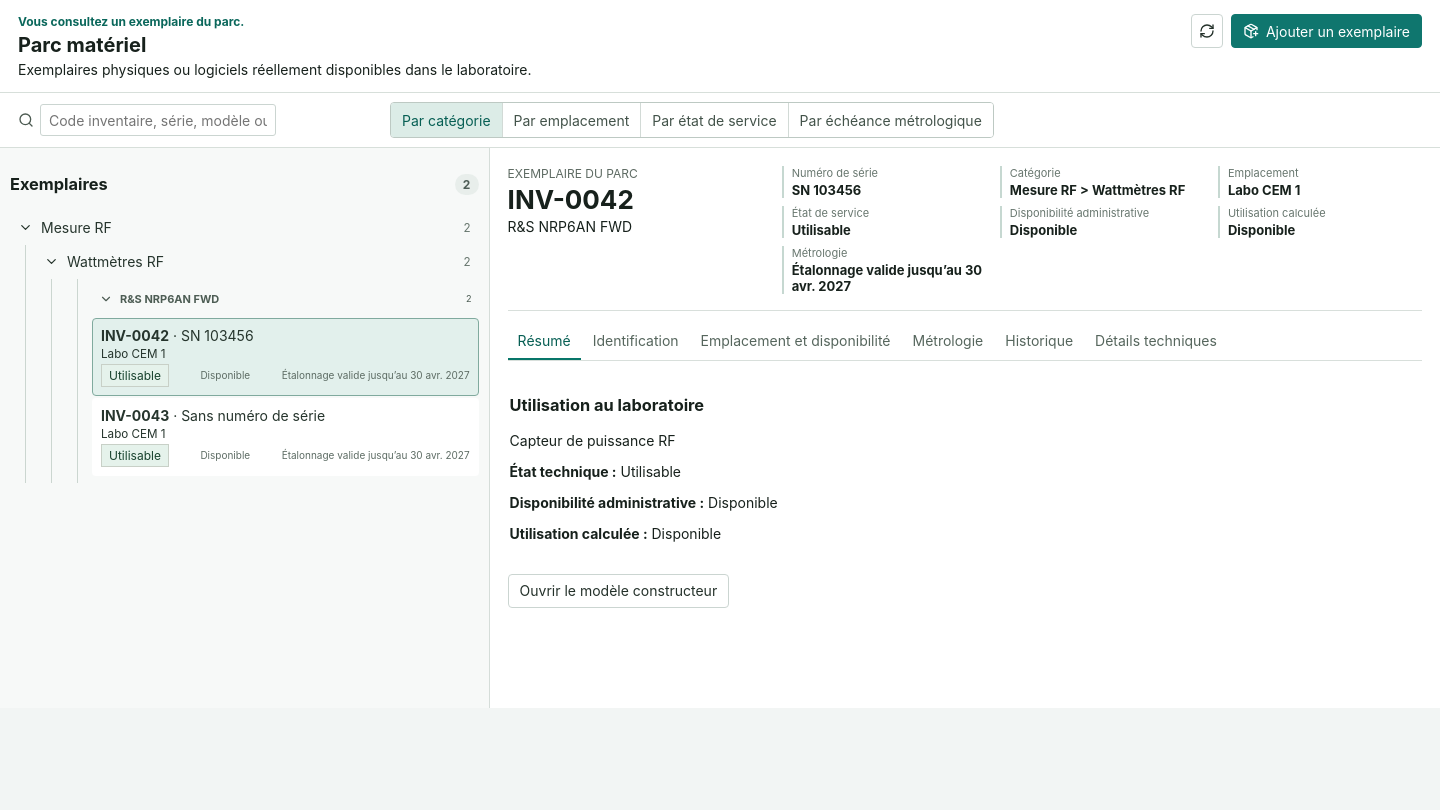
Test: LAB CONSOLE › renders the fleet hierarchy and opens the exact pinned model revision
The image size is (1440, 810).
Expected: the list item "Mesure RF 2" is shown, [10,211,479,245]
Expected: the list item "Wattmètres RF 2" is shown, [36,245,479,279]
Click the list item "INV-0043". click: (135, 415)
box: [92,398,479,476]
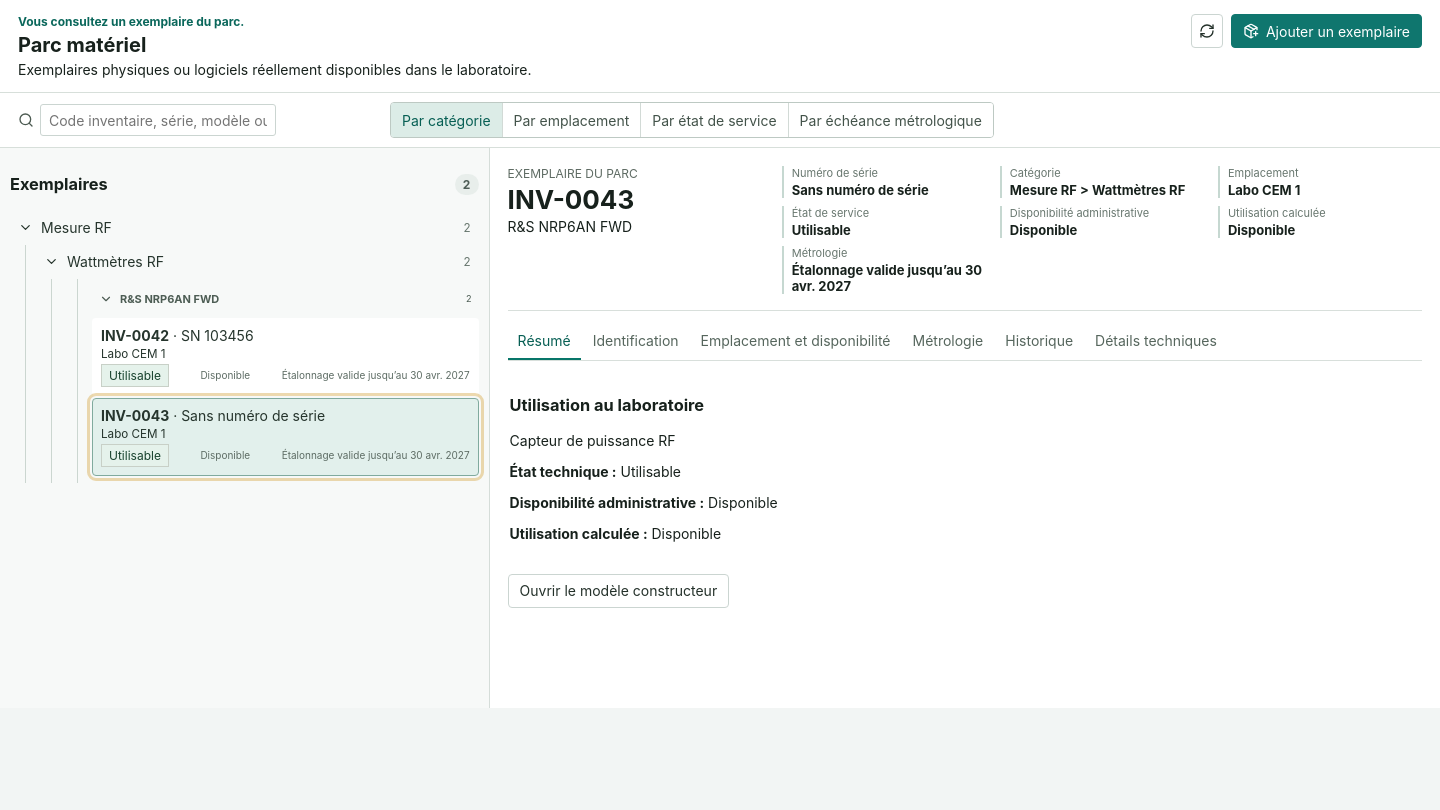
Expected: the text "Vous consultez un exemplaire du parc." is shown, [18,14,244,29]
Result: the text "Sans numéro de série" is shown at [792,182,929,198]
Click the button "Ouvrir le modèle constructeur". click: (618, 591)
box: [508,574,729,608]
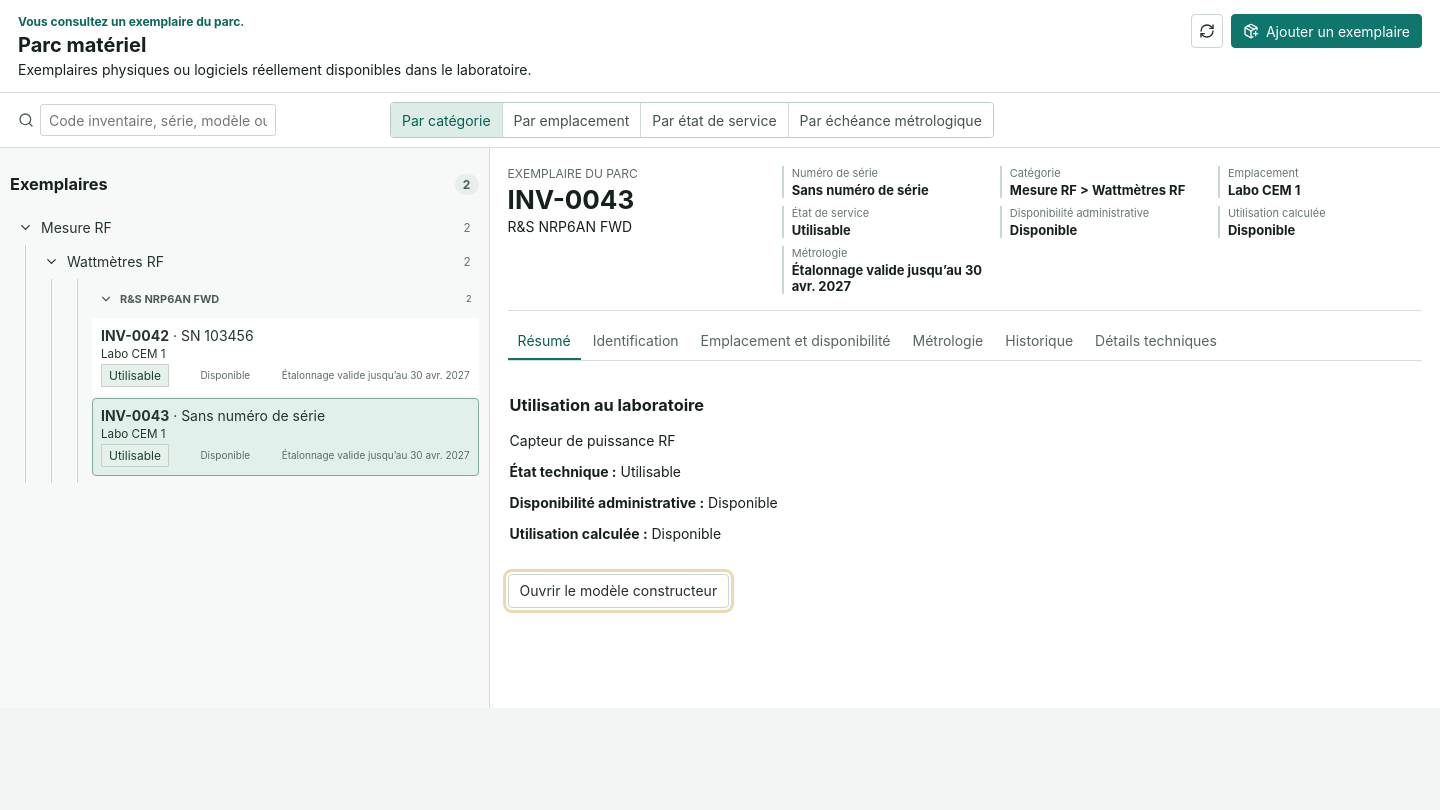
Click the button "Par emplacement". click: (572, 120)
box: [503,103,641,137]
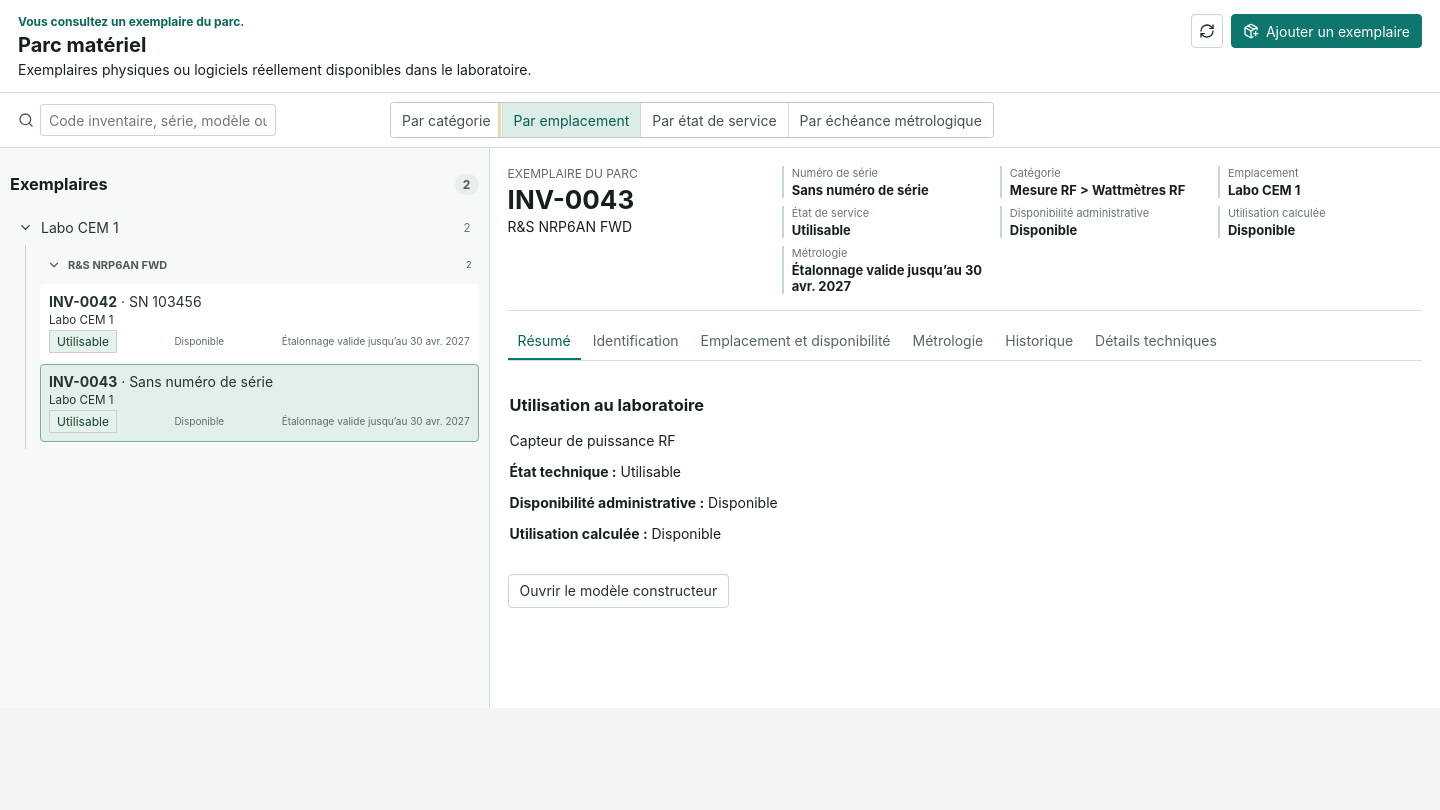
Click the button "Historique". click: (1039, 342)
box: [995,323,1083,360]
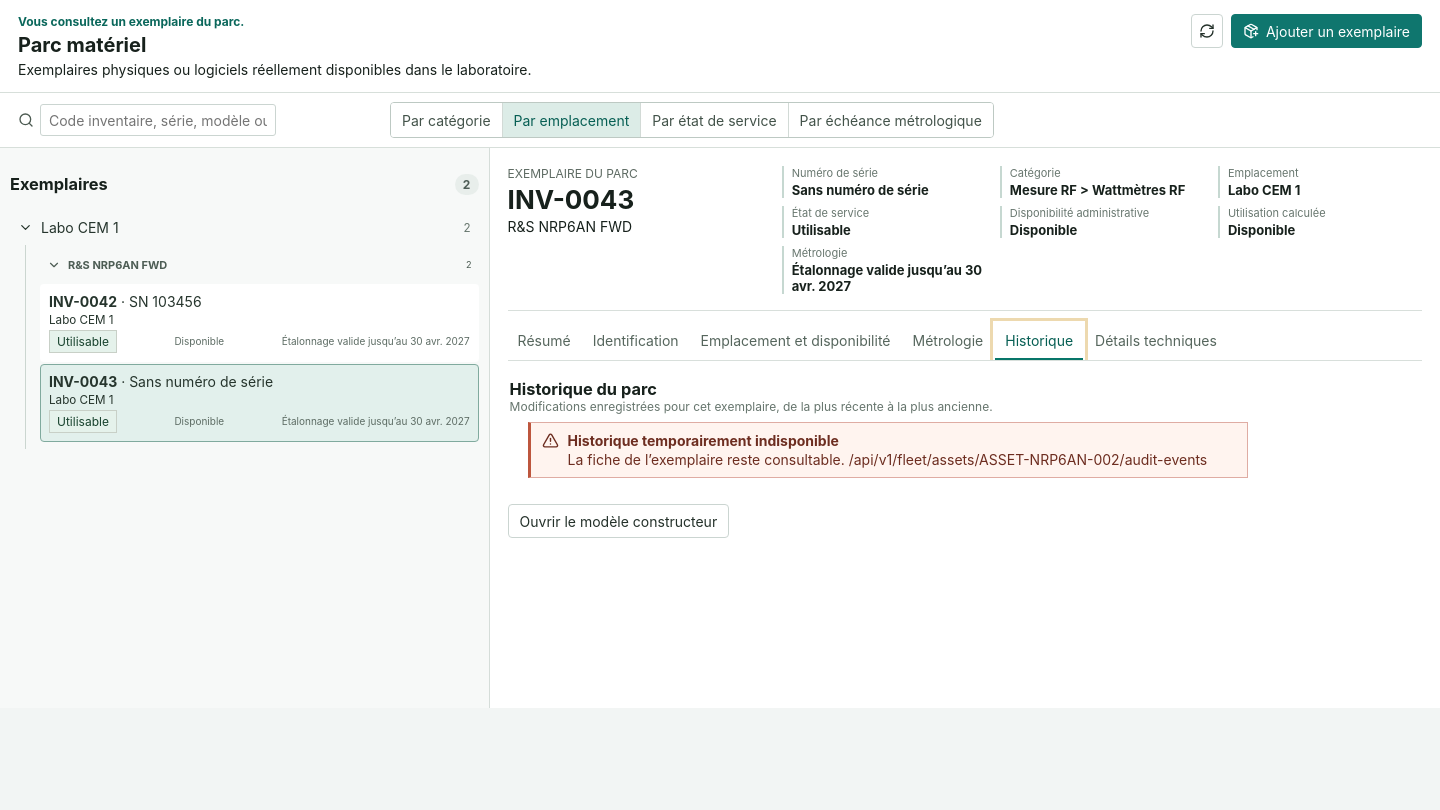
Result: the heading "INV-0043" is shown at [508,184,634,215]
Result: the text "Historique temporairement indisponible" is shown at [568,432,839,449]
